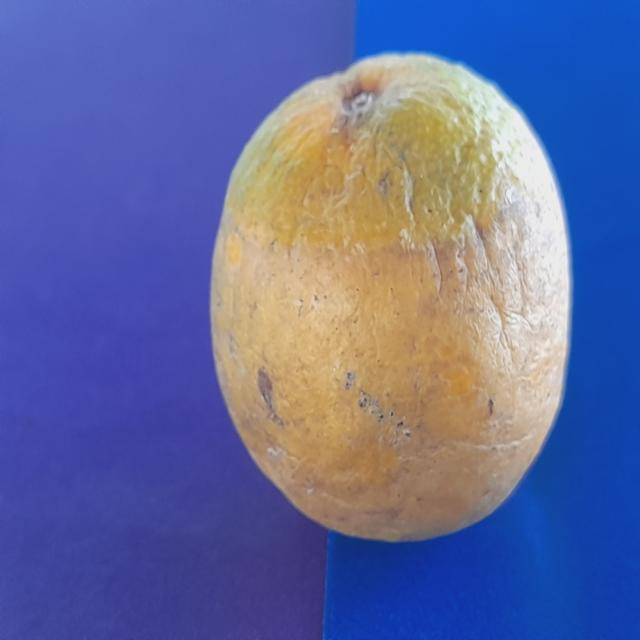thrips: (201, 38, 596, 561)
